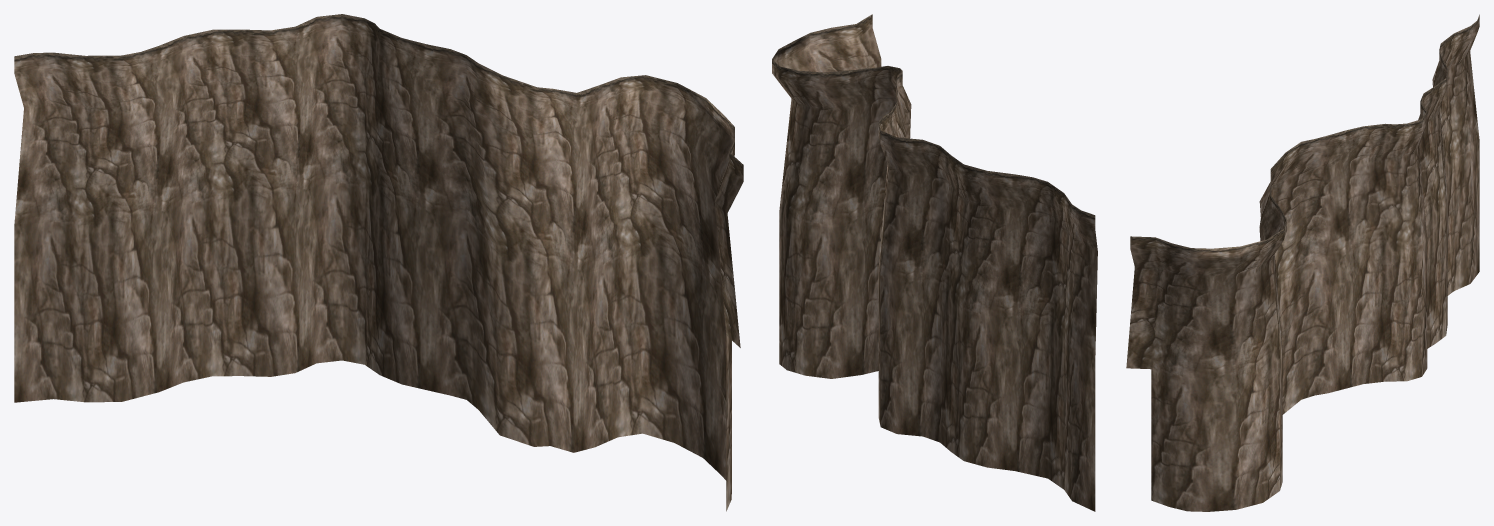
Rendered from OVERHILL_A_01_OBJECT17.fbx.
The picture shows the model from 3 angles, left to right: view 1: azimuth 30°, elevation 25°; view 2: azimuth 150°, elevation 25°; view 3: azimuth 270°, elevation 25°; orthographic projection. The views are drawn at different scales.
Visible parts, largest first — view 1: OVERHILL_A_01_OBJECT17; view 2: OVERHILL_A_01_OBJECT17; view 3: OVERHILL_A_01_OBJECT17.
Part boxes in pixels (bbox=[...]): OVERHILL_A_01_OBJECT17: bbox=[14, 14, 743, 511]; OVERHILL_A_01_OBJECT17: bbox=[772, 14, 1097, 511]; OVERHILL_A_01_OBJECT17: bbox=[1126, 14, 1479, 511].
Bounding box in the file's own units: 271039 × 202079 × 209939.
2 materials, 2 textured.
